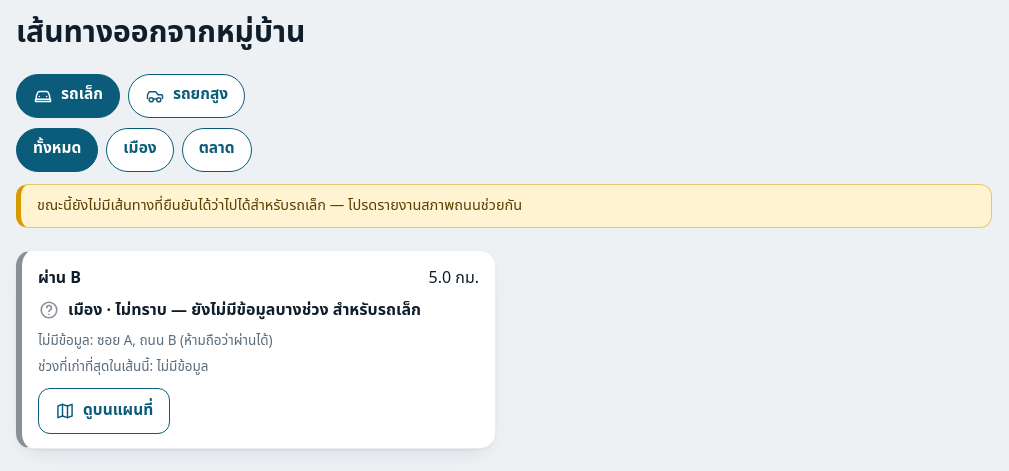
Test: empty destination filter message
The image size is (1009, 471).
What coordinates should you click on to do the following:
click the button "ตลาด"
I would click on:
 (217, 150)
Its box is [182, 128, 252, 172].
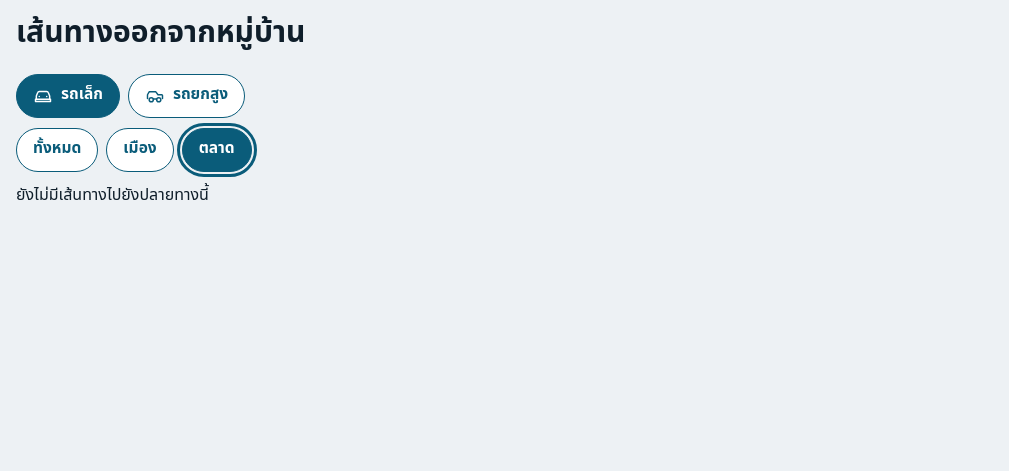
Now the text "ยังไม่มีเส้นทางไปยังปลายทางนี้" is shown, box [16, 182, 209, 206]
